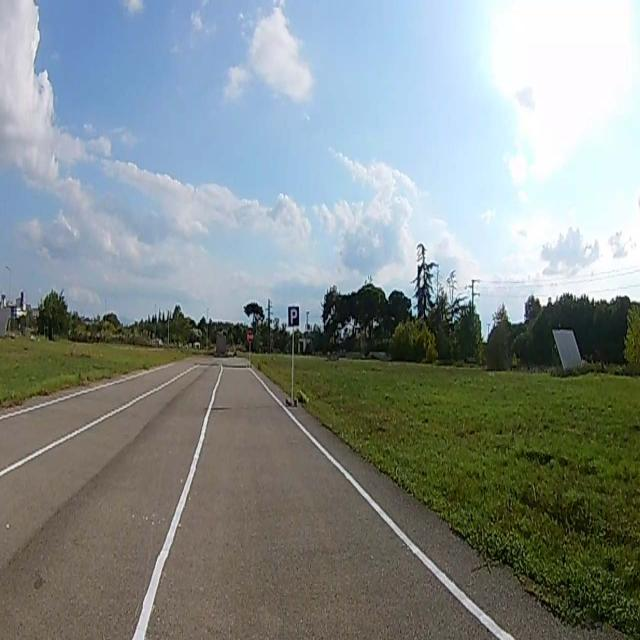park: (288, 306, 298, 326)
